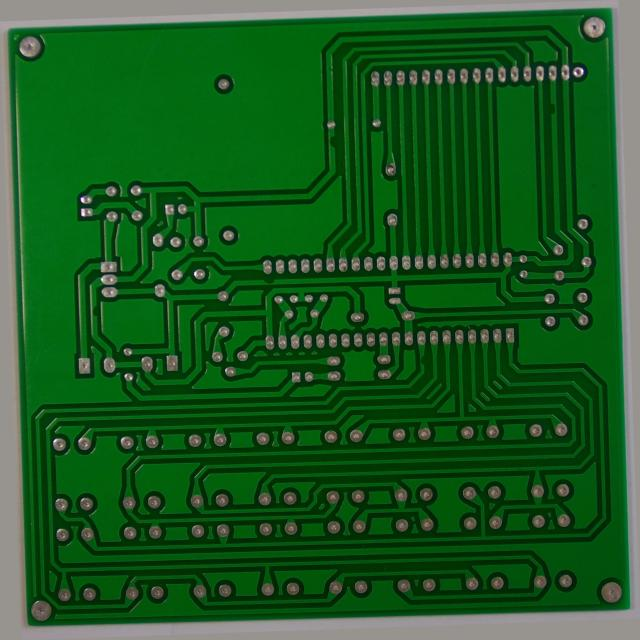mouse_bite: (259, 271, 277, 286), (561, 101, 575, 120), (333, 126, 346, 145), (81, 294, 93, 312), (420, 357, 431, 373)
